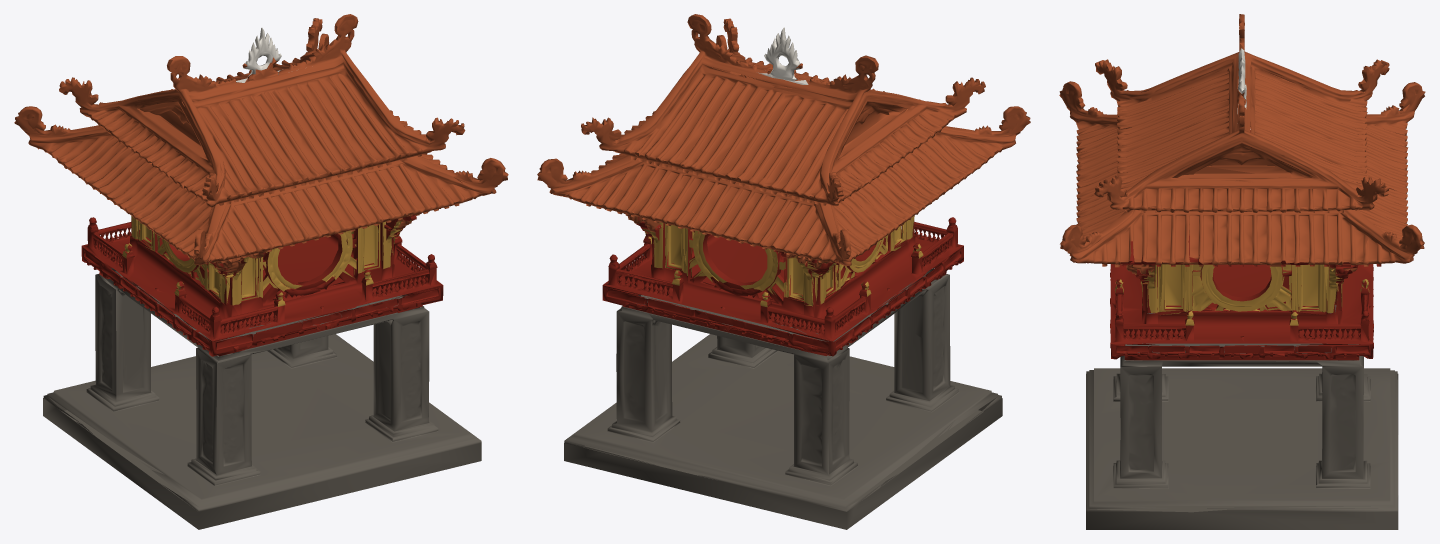
The model's file is khue-van-cac.glb.
The picture shows the model from 3 angles, left to right: view 1: azimuth 30°, elevation 25°; view 2: azimuth 150°, elevation 25°; view 3: azimuth 270°, elevation 25°; orthographic projection.
Visible parts, largest first — view 1: KhueVanCac_Stone, KhueVanCac_Roof, KhueVanCac_Lacquer, KhueVanCac_Gold, KhueVanCac_Wood, KhueVanCac_Crest; view 2: KhueVanCac_Stone, KhueVanCac_Roof, KhueVanCac_Lacquer, KhueVanCac_Gold, KhueVanCac_Wood, KhueVanCac_Crest; view 3: KhueVanCac_Roof, KhueVanCac_Stone, KhueVanCac_Lacquer, KhueVanCac_Gold, KhueVanCac_Wood.
Boxes of the visible parts, <box> form: KhueVanCac_Stone: <box>43,268,481,529</box>; KhueVanCac_Roof: <box>14,14,508,273</box>; KhueVanCac_Lacquer: <box>82,154,454,341</box>; KhueVanCac_Gold: <box>122,216,411,306</box>; KhueVanCac_Wood: <box>81,239,443,356</box>; KhueVanCac_Crest: <box>236,27,282,82</box>; KhueVanCac_Stone: <box>564,268,1002,529</box>; KhueVanCac_Roof: <box>537,14,1030,270</box>; KhueVanCac_Lacquer: <box>603,158,963,341</box>; KhueVanCac_Gold: <box>642,216,923,307</box>; KhueVanCac_Wood: <box>602,246,963,356</box>; KhueVanCac_Crest: <box>758,27,808,84</box>; KhueVanCac_Roof: <box>1059,14,1425,278</box>; KhueVanCac_Stone: <box>1086,305,1398,529</box>; KhueVanCac_Lacquer: <box>1087,130,1381,344</box>; KhueVanCac_Gold: <box>1115,264,1369,325</box>; KhueVanCac_Wood: <box>1110,267,1373,360</box>.
Size of the model in its own units: 0.8007 by 1 by 0.8062.
